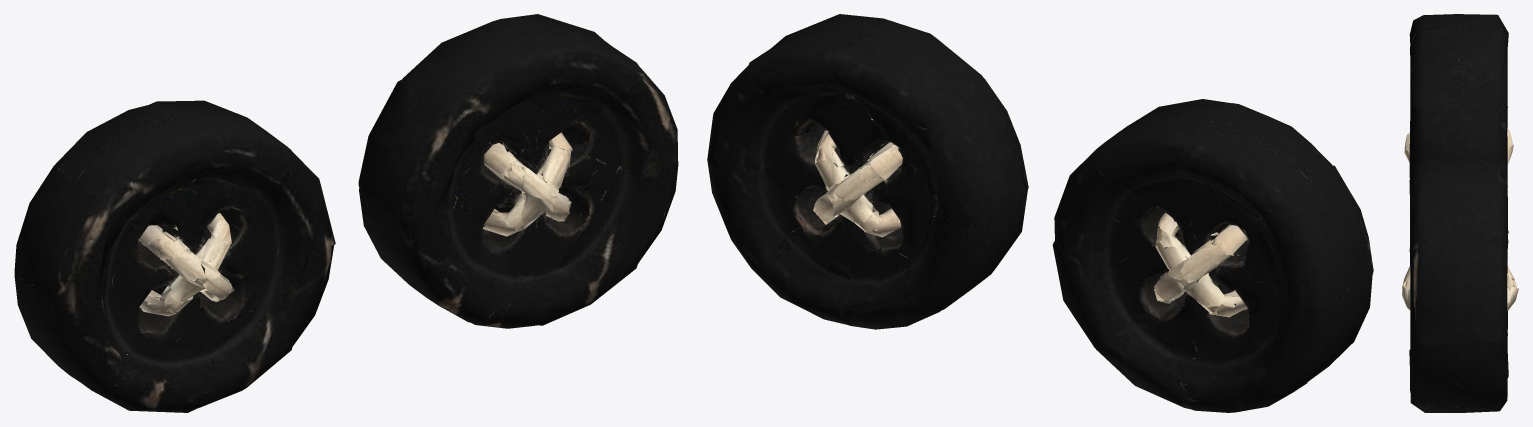
File: olhos-botao-leve.glb
3 renders of one model, left to right at view 1: azimuth 30°, elevation 25°; view 2: azimuth 150°, elevation 25°; view 3: azimuth 270°, elevation 25°, orthographic. The views are drawn at different scales.
Visible parts, largest first — view 1: Mesh_0; view 2: Mesh_0; view 3: Mesh_0.
Part boxes in pixels (left/top/right/bottom): Mesh_0: left=14, top=14, right=678, bottom=412; Mesh_0: left=707, top=14, right=1373, bottom=412; Mesh_0: left=1402, top=14, right=1518, bottom=412.
Size of the model in its own units: 1.9 by 0.8166 by 0.3706.
1 material, 1 textured.
